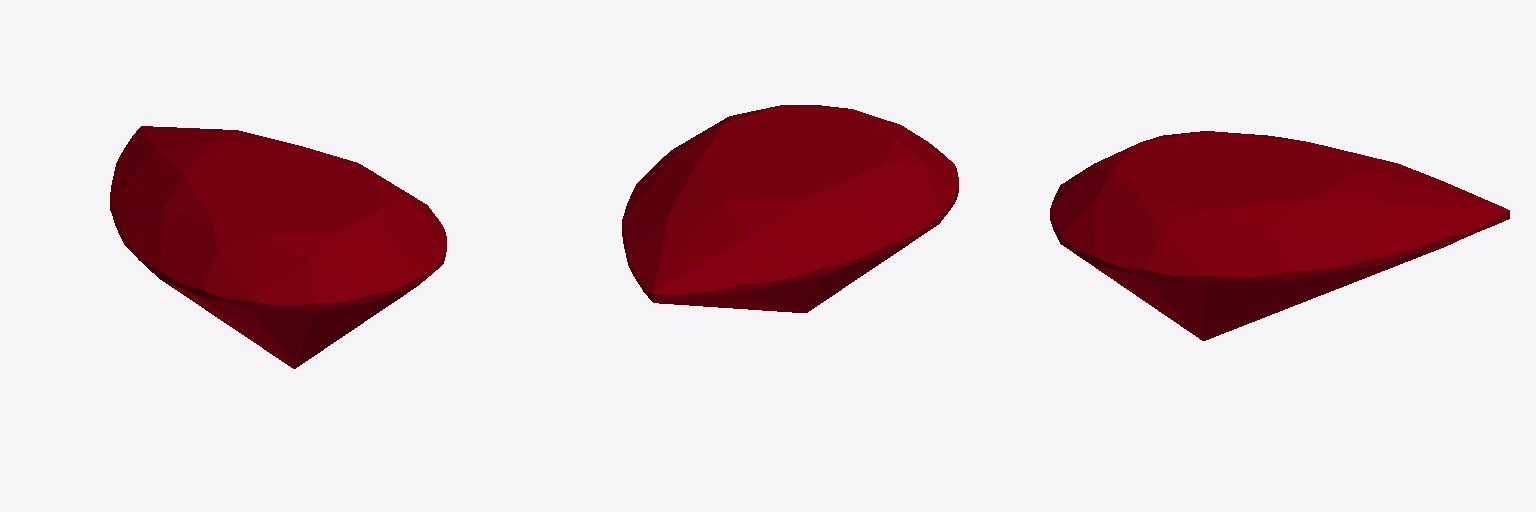
The model's file is Ruby_Low_Poly.obj.
3 renders of one model, left to right at view 1: azimuth 30°, elevation 25°; view 2: azimuth 150°, elevation 25°; view 3: azimuth 270°, elevation 25°, orthographic.
Visible parts, largest first — view 1: Ruby_-_Pear_Cut_dmesh.001; view 2: Ruby_-_Pear_Cut_dmesh.001; view 3: Ruby_-_Pear_Cut_dmesh.001.
Boxes of the visible parts, box(x1,y1,x2,y2) form: Ruby_-_Pear_Cut_dmesh.001: box(110, 126, 446, 368); Ruby_-_Pear_Cut_dmesh.001: box(622, 105, 958, 312); Ruby_-_Pear_Cut_dmesh.001: box(1050, 131, 1509, 340).
Bounding box in the file's own units: 2 × 1.22 × 2.98.